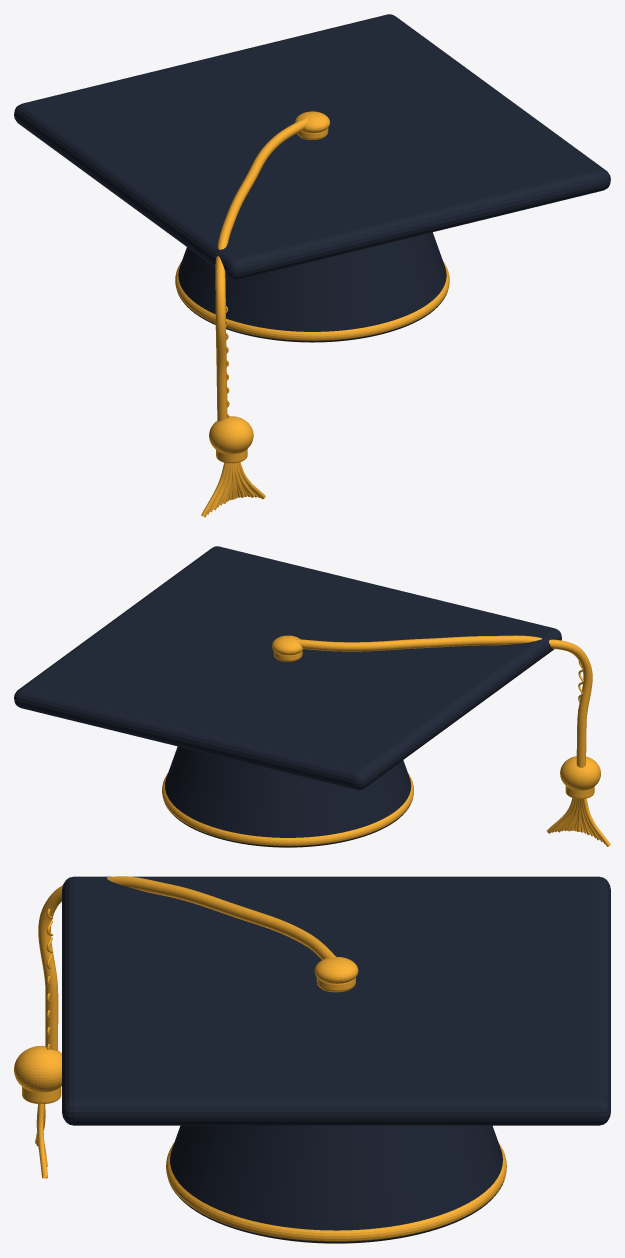
Rendered from mortarboard-hat.glb.
3 renders of one model, top to bottom at view 1: azimuth 30°, elevation 25°; view 2: azimuth 150°, elevation 25°; view 3: azimuth 270°, elevation 25°, orthographic. The views are drawn at different scales.
Parts seen in each view (by area): view 1: Square Mortarboard Board, Felt Crown, Graduation Cord, Gold Lower Binding, Tassel Head; view 2: Square Mortarboard Board, Felt Crown, Graduation Cord, Gold Lower Binding, Tassel Head, Gold Button Cap; view 3: Square Mortarboard Board, Felt Crown, Graduation Cord, Gold Lower Binding, Tassel Head, Gold Button Cap, Tassel Strand 18.
Boxes of the visible parts, x1,y1,x2,y2 form: Square Mortarboard Board: (14, 14, 610, 279); Felt Crown: (178, 232, 446, 342); Graduation Cord: (215, 117, 308, 421); Gold Lower Binding: (175, 261, 449, 342); Tassel Head: (209, 416, 253, 454); Square Mortarboard Board: (14, 546, 561, 790); Felt Crown: (165, 746, 411, 847); Graduation Cord: (294, 635, 592, 767); Gold Lower Binding: (162, 773, 413, 847); Tassel Head: (560, 756, 600, 790); Gold Button Cap: (272, 635, 303, 655); Square Mortarboard Board: (62, 876, 610, 1125); Felt Crown: (168, 1125, 502, 1243); Graduation Cord: (38, 876, 335, 1050); Gold Lower Binding: (166, 1142, 506, 1243); Tassel Head: (14, 1045, 61, 1092); Gold Button Cap: (314, 956, 358, 983); Tassel Strand 18: (37, 1104, 47, 1178).
Size of the model in its own units: 5.24 by 3.08 by 5.16.
